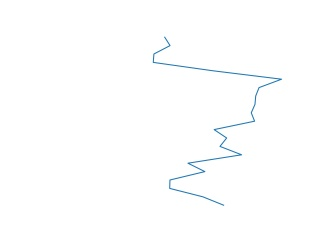floodPlain: (150, 33, 284, 209)
